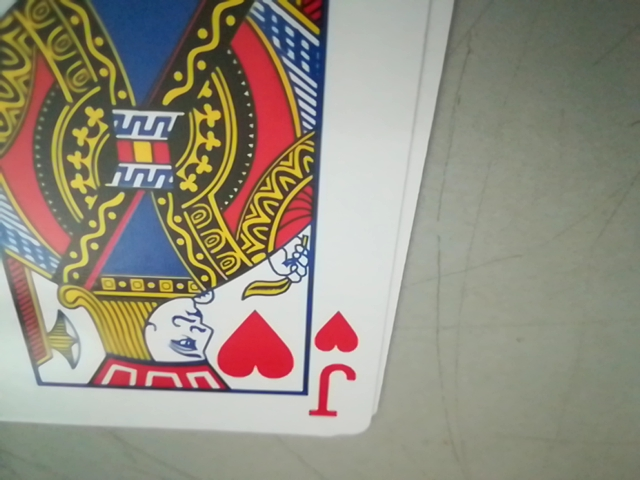hx j: (306, 304, 365, 421)
